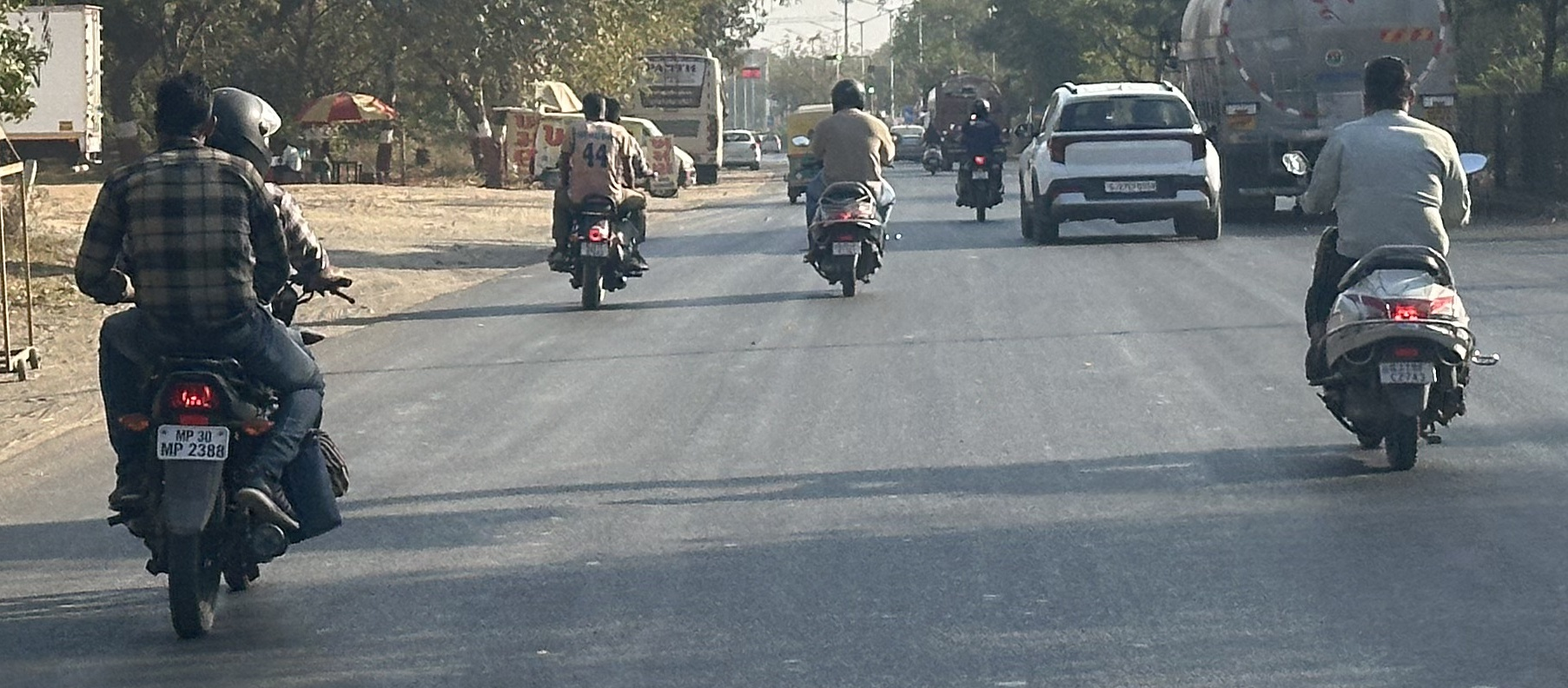BikeWithRider: (61, 59, 365, 648), (1270, 43, 1508, 486), (537, 76, 659, 316), (791, 69, 901, 302), (942, 87, 1015, 231), (917, 119, 947, 179)
Helmet: (189, 76, 290, 186), (824, 76, 870, 115)
NoHelmet: (139, 67, 222, 155), (1346, 49, 1433, 126), (574, 89, 613, 128), (599, 95, 625, 129)
